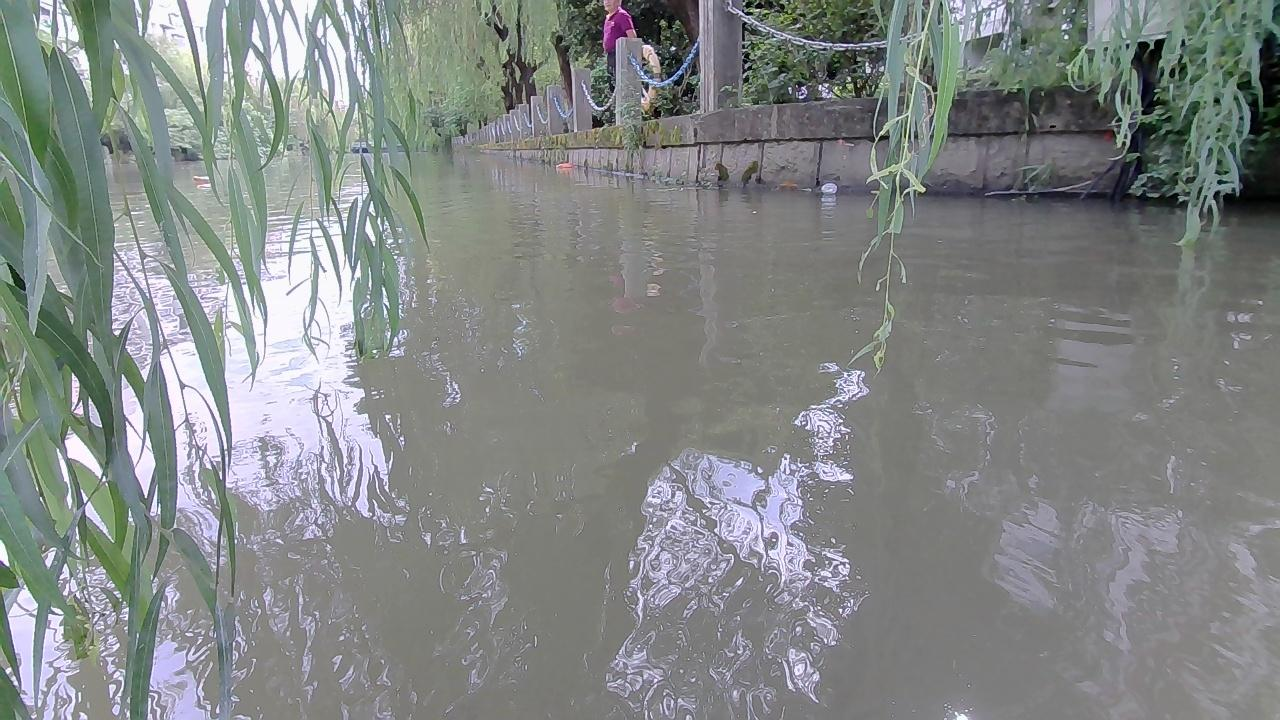bottle: (816, 181, 846, 197), (191, 173, 217, 187), (552, 159, 572, 176)
